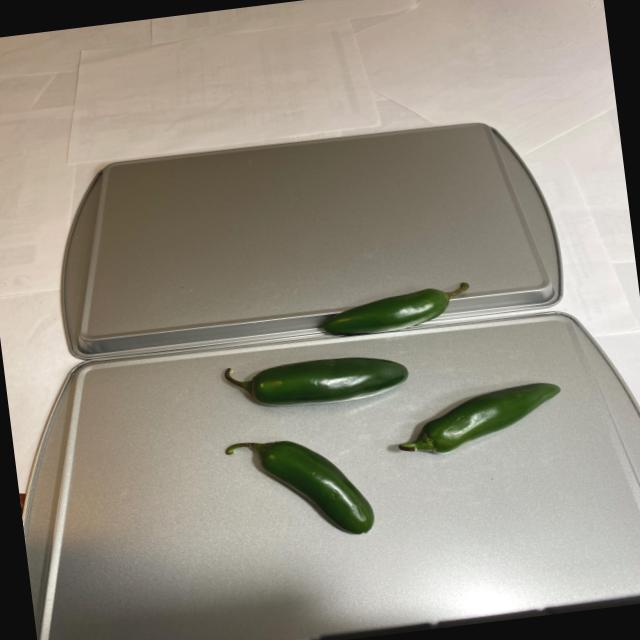chilli: (194, 270, 575, 552)
